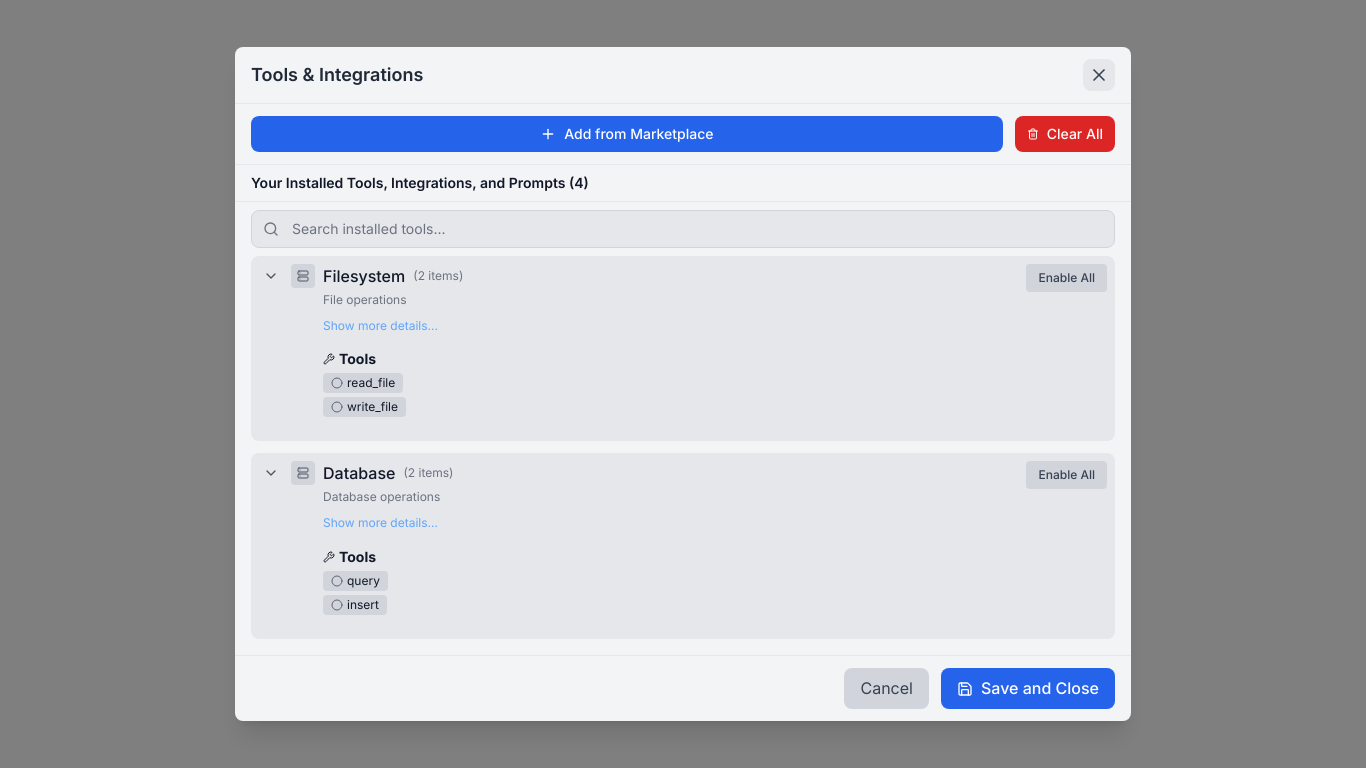
it: ToolsPanel - Tool Selection › should filter tools based on search input
Expected: the heading "filesystem" is shown, [323,264,405,288]
Expected: the heading "database" is shown, [323,461,395,485]
// Search for 'file'
Type "file" into the field with placeholder "Search installed tools..." at (683, 229), box [251,210,1115,248]
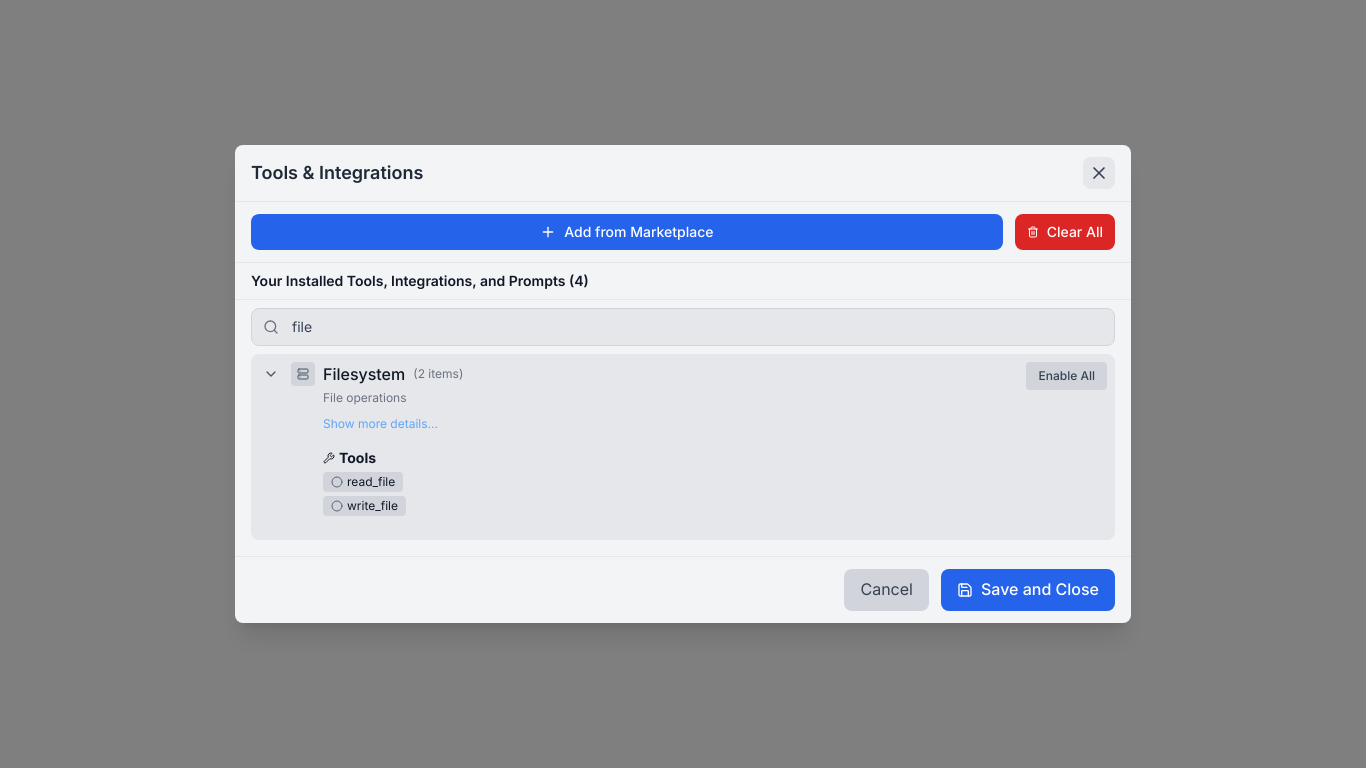
Expected: the heading "filesystem" is shown, [323,362,405,386]
Expected: the heading "database" is gone
